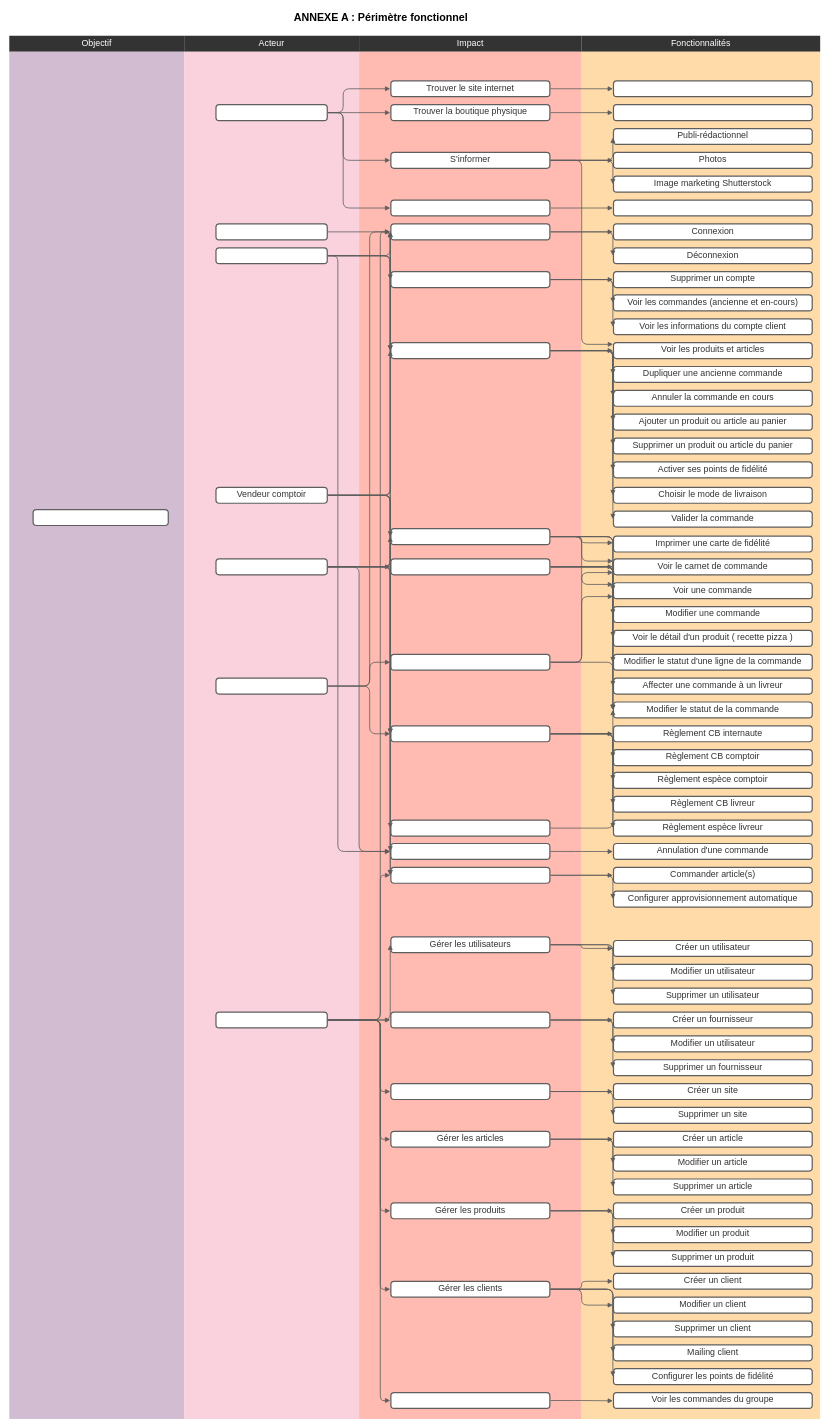
The diagram is 829 pixels wide and 1428 high, and some of its shapes have lost their labels. The shapes that lost their labels are listed below. From the top down, each one's centre as x and y in pixels, then its label:
At point (713, 88): "Référencement Google".
At point (271, 112): "Visiteur numérique".
At point (713, 112): "Google map".
At point (470, 207): "Créer un compte".
At point (713, 207): "Création d'un compte client".
At point (271, 231): "Visiteur physique".
At point (470, 231): "Se connecter".
At point (271, 255): "Client".
At point (470, 279): "Visualiser / Modifier son compte".
At point (470, 350): "Commander".
At point (100, 517): "Réaliser un site web de gestion".
At point (470, 536): "Préparer une commande".
At point (271, 566): "Pizzaiolo".
At point (470, 566): "Fabriquer un produits (pizza)".
At point (470, 662): "Livrer une commande".
At point (271, 685): "Livreur".
At point (470, 733): "Payer une commande".
At point (470, 827): "Retirer une commande".
At point (470, 851): "Annuler une commande".
At point (470, 875): "Approvisionner".
At point (271, 1019): "Gérant".
At point (470, 1019): "Gérer les fournisseurs".
At point (470, 1091): "Gérer les sites (ou boutiques)".
At point (470, 1400): "Gérer les commandes".
